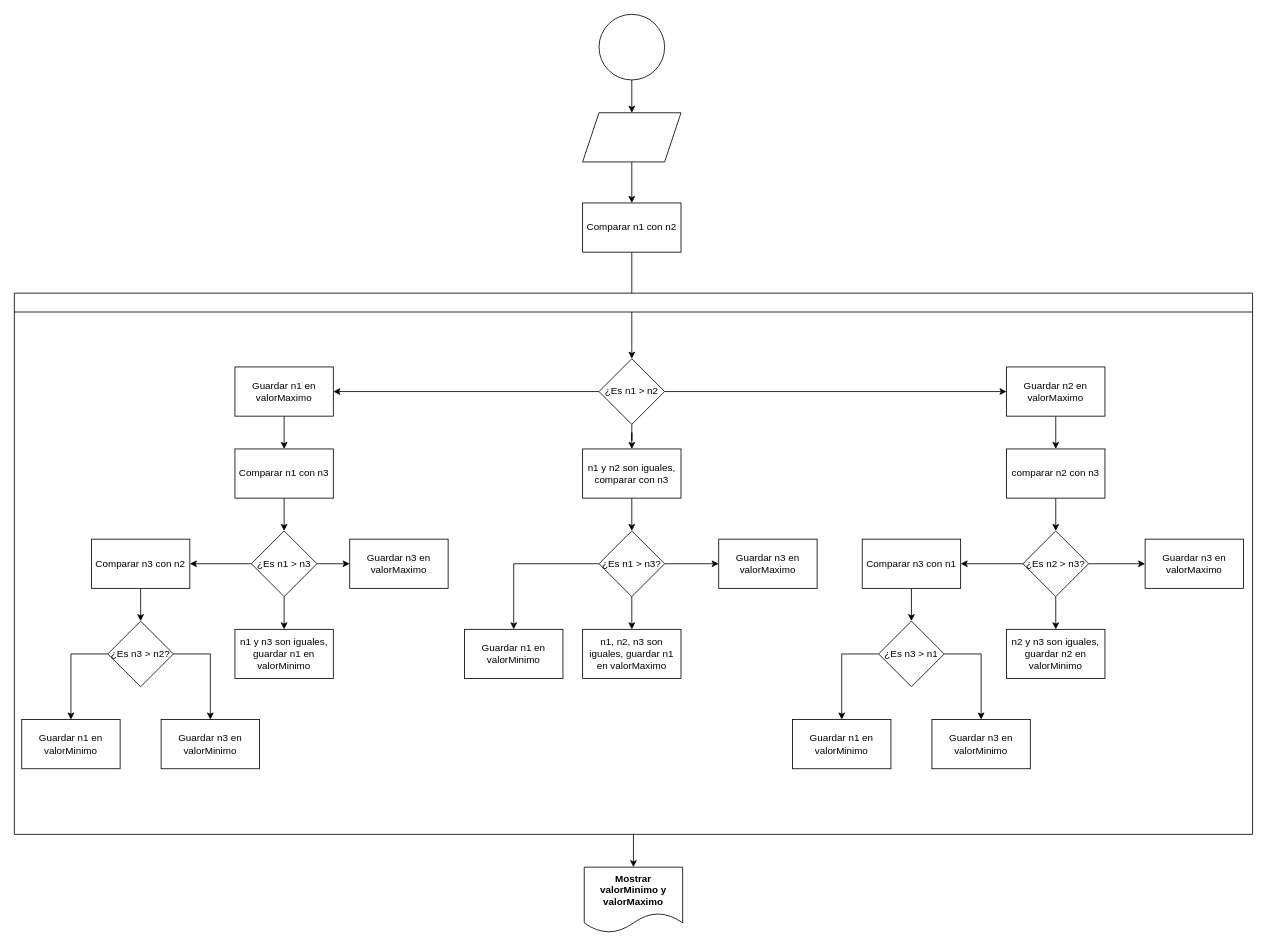
Some shapes in this 1267 by 947 pixel diagram are drawn without their labels. Each missing label, with the centre of its shape:
Leer n1 Leer n2 Leer n3: pixel 631 137
Mientras no esten definidos valorMinimo y valorMaximo: pixel 633 563
